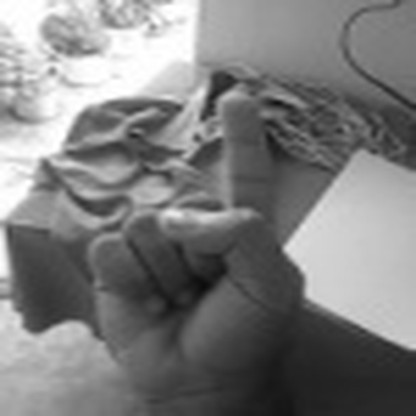d: (80, 89, 301, 416)
